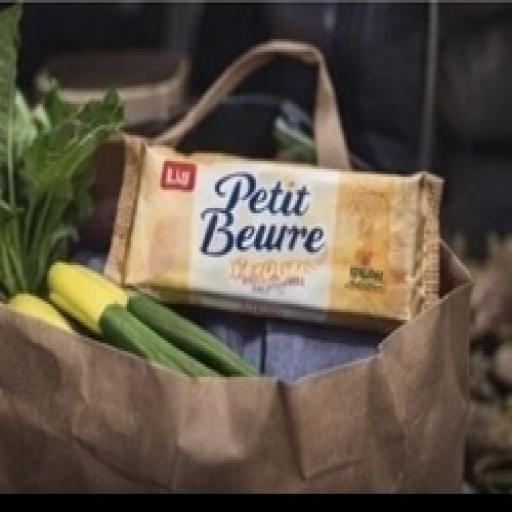petit_beurre: (75, 98, 480, 358)
